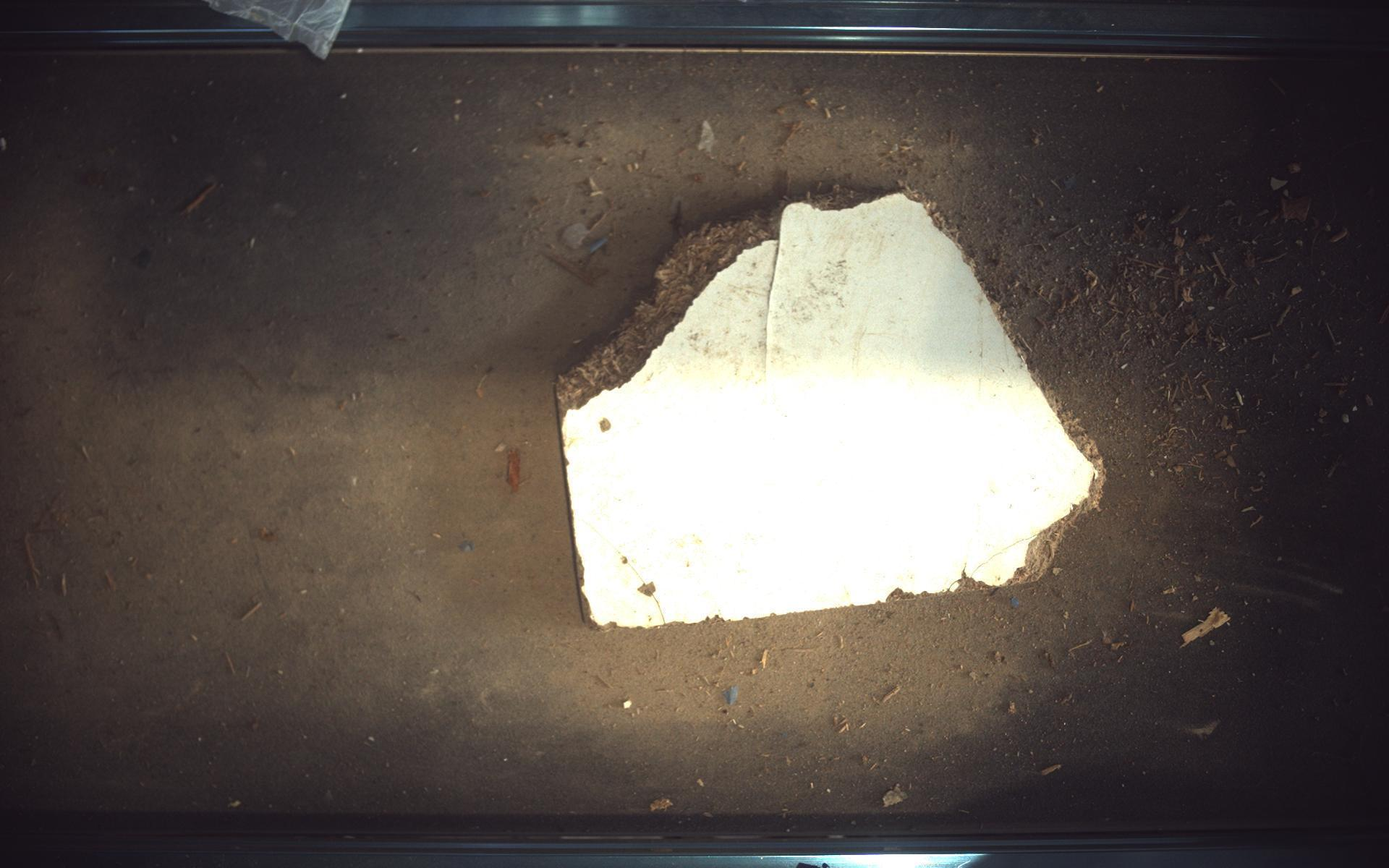wood: (557, 192, 1107, 628)
